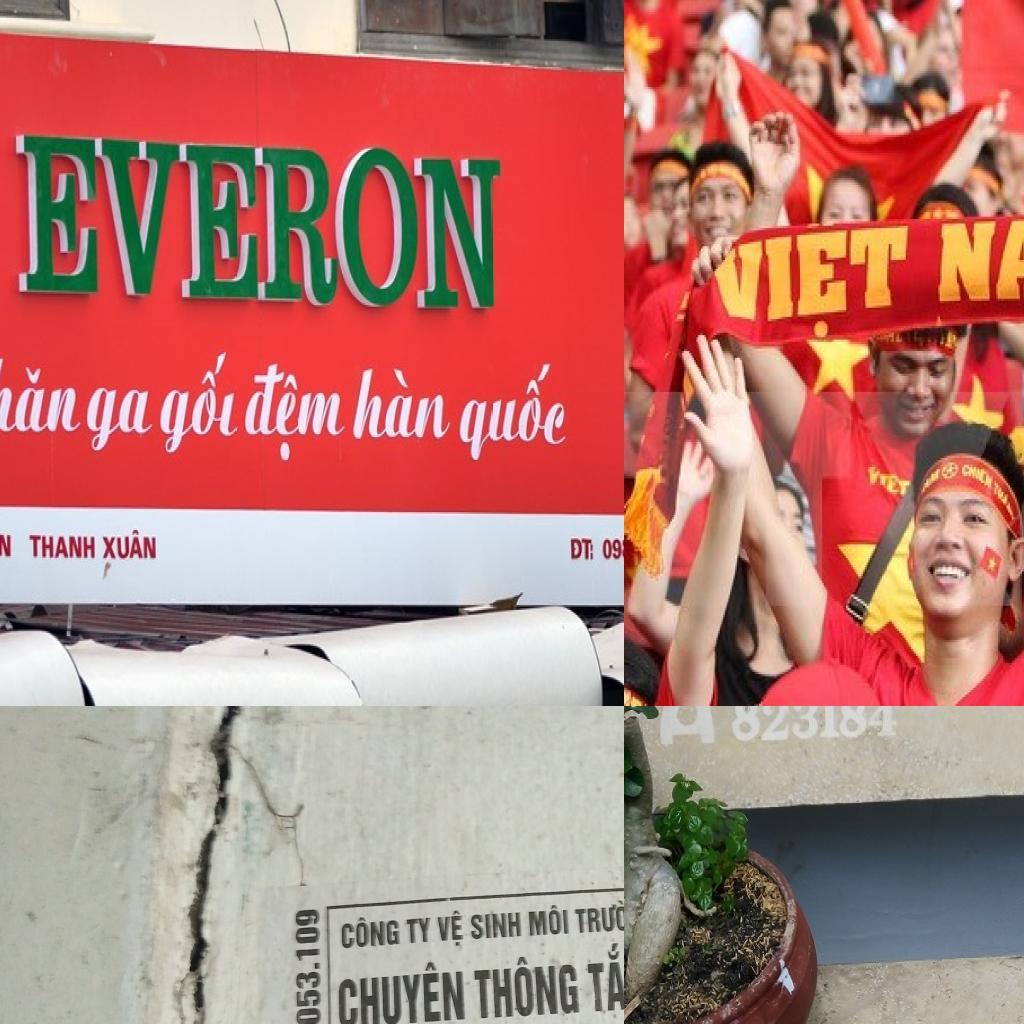text: (15, 118, 504, 313), (704, 224, 916, 346), (238, 360, 356, 465), (453, 362, 573, 465), (156, 348, 246, 458), (935, 210, 1024, 310), (337, 957, 468, 1024), (732, 706, 901, 757), (349, 367, 458, 444), (472, 952, 582, 1022), (0, 349, 87, 434), (80, 387, 160, 455), (294, 907, 325, 1024), (584, 940, 624, 1014), (340, 914, 402, 950), (864, 462, 912, 504), (573, 897, 624, 936), (28, 533, 98, 561), (102, 527, 158, 561), (469, 910, 523, 942), (528, 904, 570, 938), (959, 460, 998, 494), (434, 908, 466, 949), (406, 914, 432, 944), (570, 538, 596, 563), (0, 523, 12, 559)
